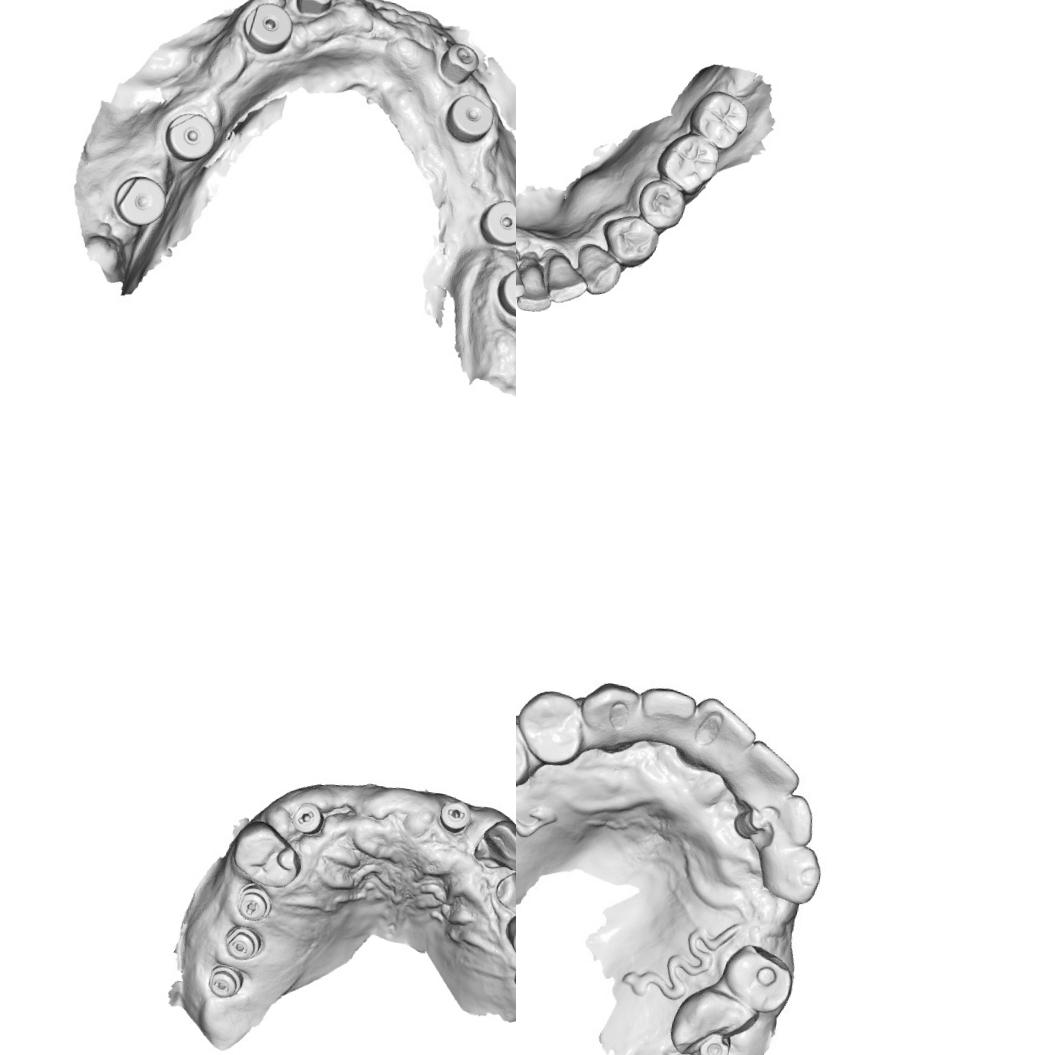canine: (579, 678, 640, 752), (752, 840, 820, 906), (570, 240, 625, 298), (471, 815, 516, 872)
implant: (108, 172, 170, 232), (440, 88, 502, 146), (162, 108, 218, 165), (239, 0, 296, 56), (477, 194, 516, 251), (436, 40, 484, 84), (491, 260, 516, 323), (293, 0, 336, 18)
implant_minus: (233, 880, 275, 924), (222, 922, 264, 963), (205, 960, 245, 1002), (288, 800, 326, 837), (436, 798, 472, 836)
incisor: (682, 697, 758, 779), (635, 683, 700, 755), (728, 741, 796, 809), (541, 250, 593, 308), (762, 794, 815, 845), (516, 261, 557, 315), (516, 249, 530, 301)
molar: (720, 938, 797, 1014), (652, 128, 722, 199), (684, 86, 752, 154)
premolar: (228, 817, 307, 891), (517, 687, 587, 761), (596, 211, 664, 273), (633, 173, 689, 232), (492, 858, 516, 921), (516, 713, 533, 788)
